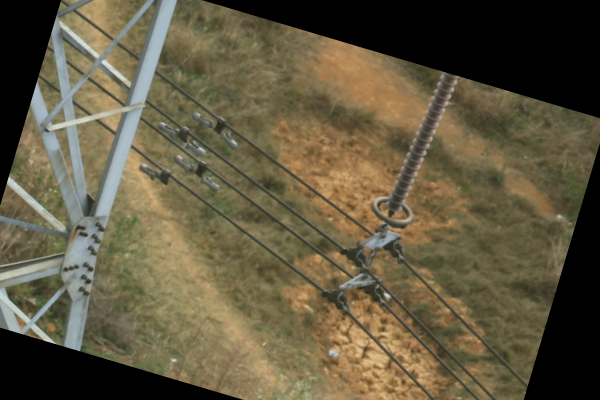damper: (191, 109, 242, 150), (156, 118, 207, 156), (174, 153, 221, 194)
damper_defect: (138, 160, 173, 189)
